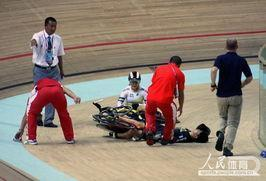Fall-Detected: (109, 111, 211, 144)
